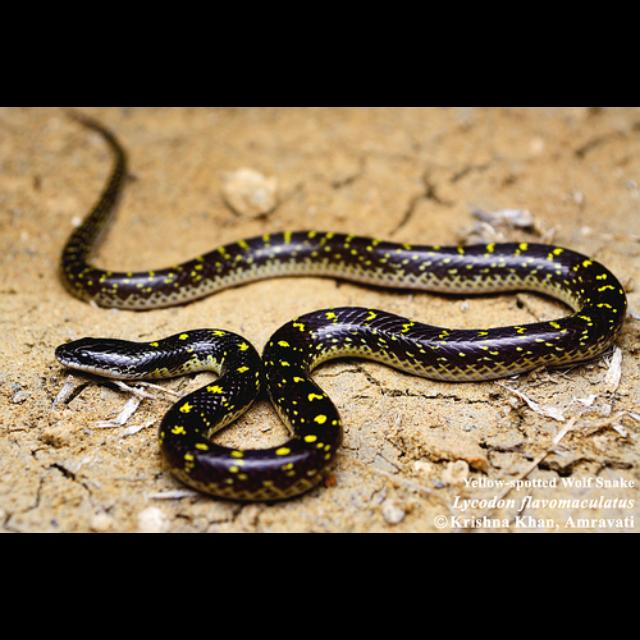snake: (53, 113, 625, 503)
